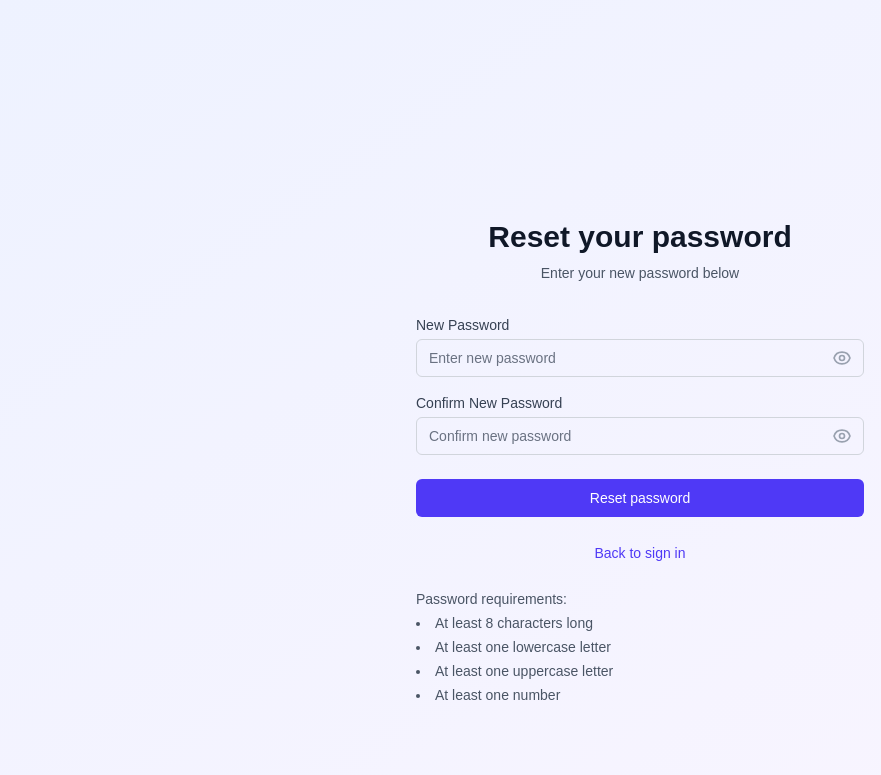
Scenario: ResetPasswordForm › handles resetPassword function throwing an error
The width and height of the screenshot is (881, 775).
Type "StrongPassword123!" into the password field labelled "New Password" at (640, 358), box [416, 339, 864, 377]
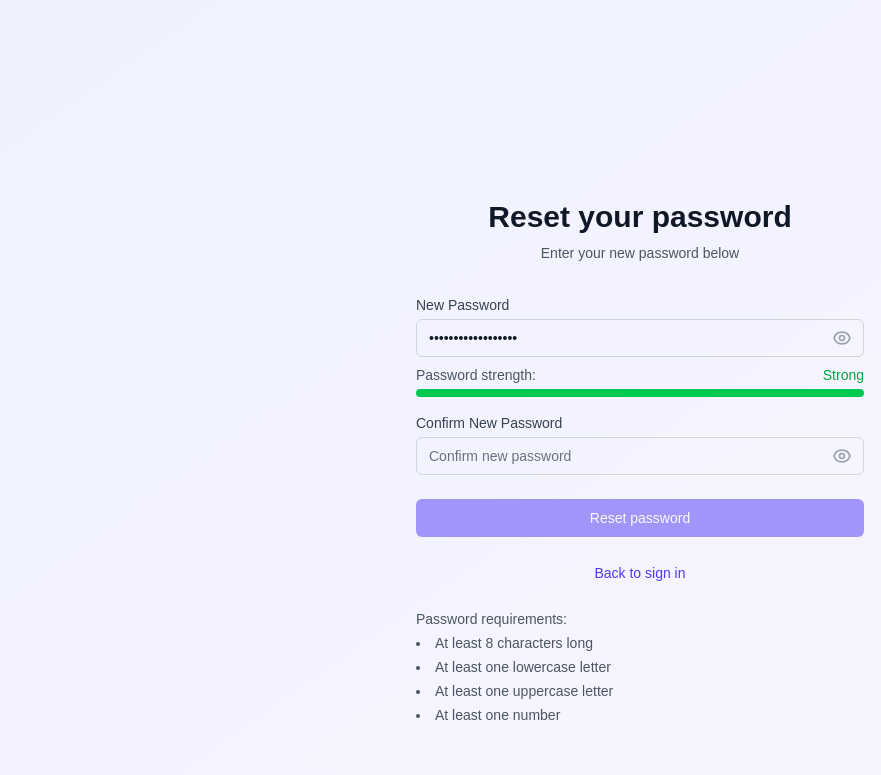
Type "StrongPassword123!" into the password field labelled "Confirm New Password" at (640, 456), box [416, 437, 864, 475]
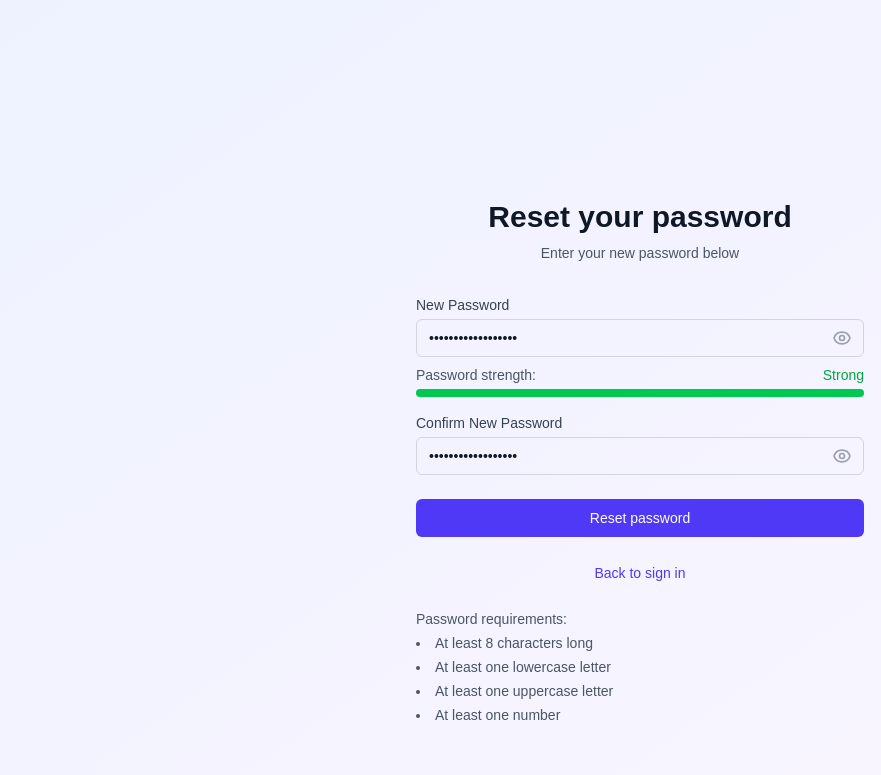
Click the button "Reset password" at (640, 518), box [416, 499, 864, 537]
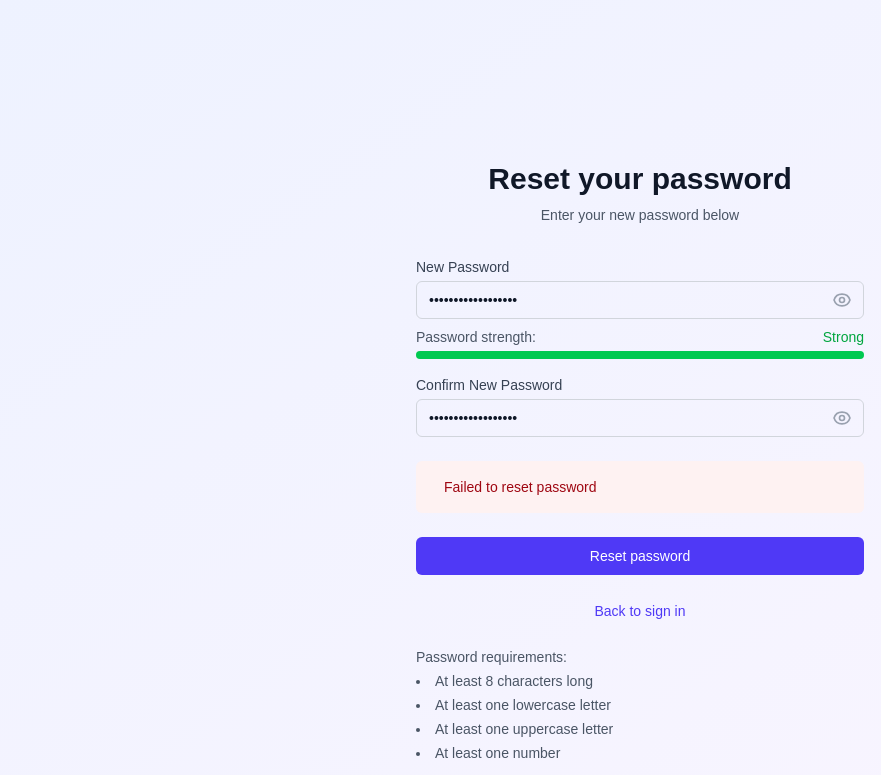
Expected: the text "Failed to reset password" is shown, [444, 477, 596, 497]
